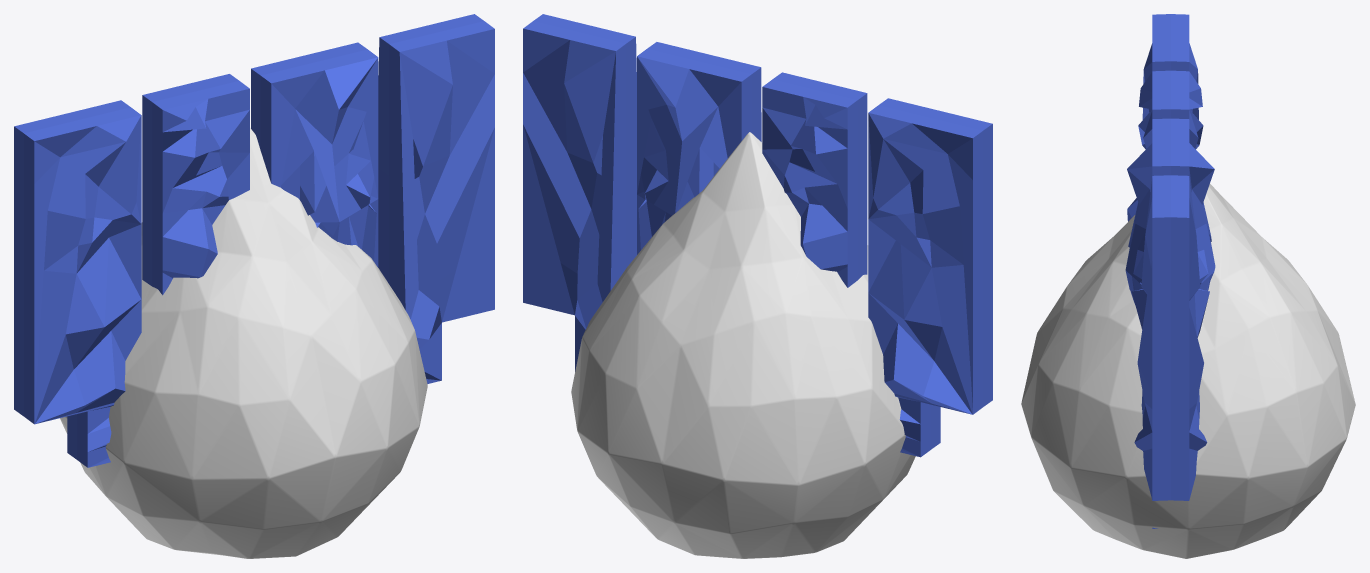
Rendered from drop_gem5.glb.
3 views of the same model, side by side, from view 1: azimuth 30°, elevation 25°; view 2: azimuth 150°, elevation 25°; view 3: azimuth 270°, elevation 25° (orthographic). The views are drawn at different scales.
Visible parts, largest first — view 1: Curve.002, drop_Plane.002; view 2: Curve.002, drop_Plane.002; view 3: drop_Plane.002, Curve.002.
Boxes of the visible parts, x1,y1,x2,y2 form: Curve.002: (14, 14, 494, 467); drop_Plane.002: (60, 128, 427, 558); Curve.002: (523, 14, 992, 457); drop_Plane.002: (571, 132, 915, 558); drop_Plane.002: (1021, 184, 1355, 558); Curve.002: (1125, 14, 1215, 528).
Size of the model in its own units: 5.2 by 5.06 by 3.61.
